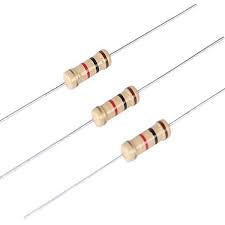resistor: (50, 42, 120, 95), (81, 85, 149, 132), (118, 119, 176, 168)
